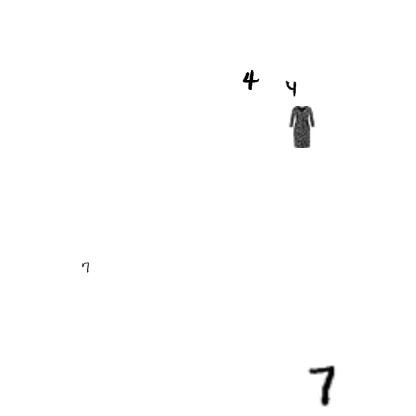4: (236, 65, 264, 93), (281, 76, 303, 98)
7: (296, 354, 352, 410), (79, 259, 93, 273)
Dress: (280, 106, 322, 148)
